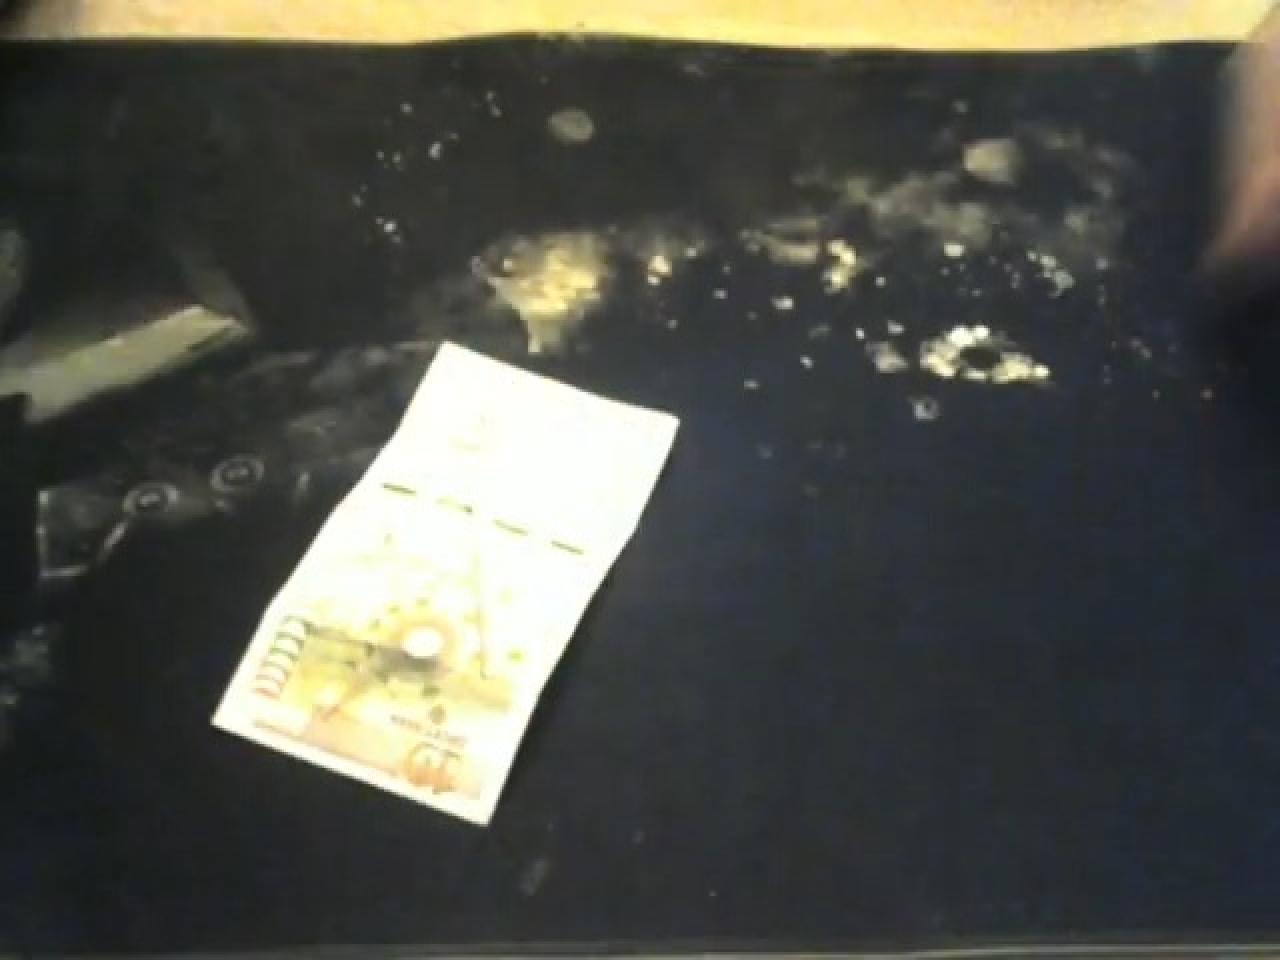10leva: (206, 333, 680, 832)
